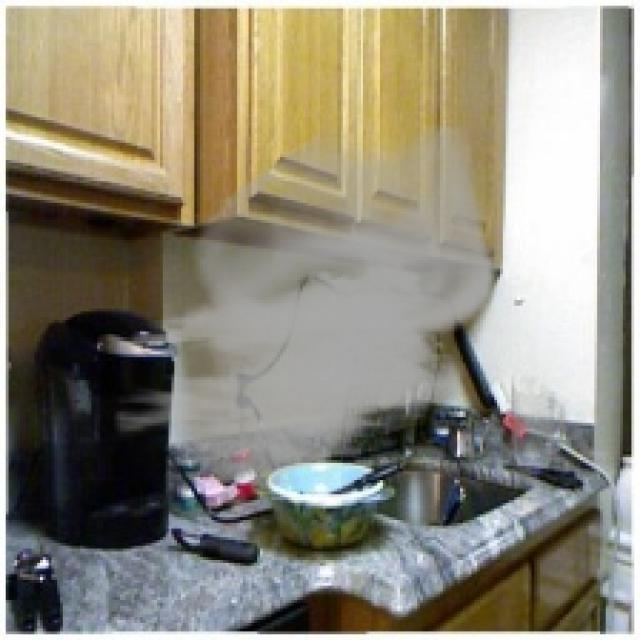Smoke: (114, 122, 497, 494)
